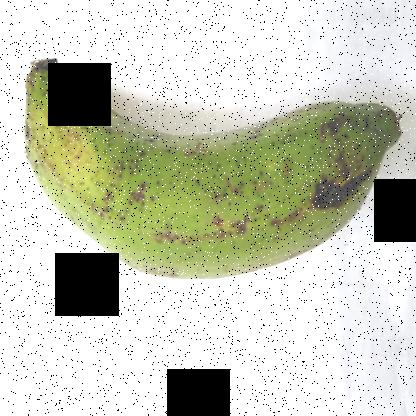rotten: (300, 154, 386, 241)
unripe: (6, 37, 408, 289)
